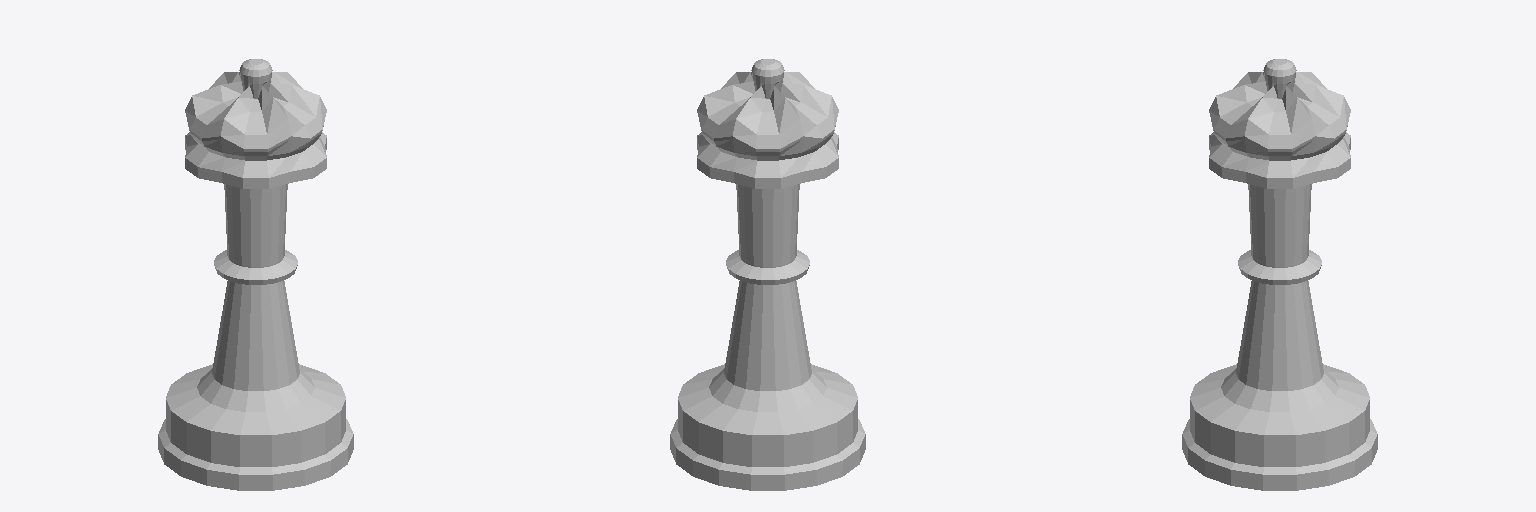
The model's file is king.obj.
3 renders of one model, left to right at view 1: azimuth 30°, elevation 25°; view 2: azimuth 150°, elevation 25°; view 3: azimuth 270°, elevation 25°, orthographic.
Visible parts, largest first — view 1: Circle.001; view 2: Circle.001; view 3: Circle.001.
Part boxes in pixels (x1,y1,x2,y2): Circle.001: (158,59,353,490); Circle.001: (670,59,865,490); Circle.001: (1182,59,1377,490).
Bounding box in the file's own units: 1.58 × 3.52 × 1.6.